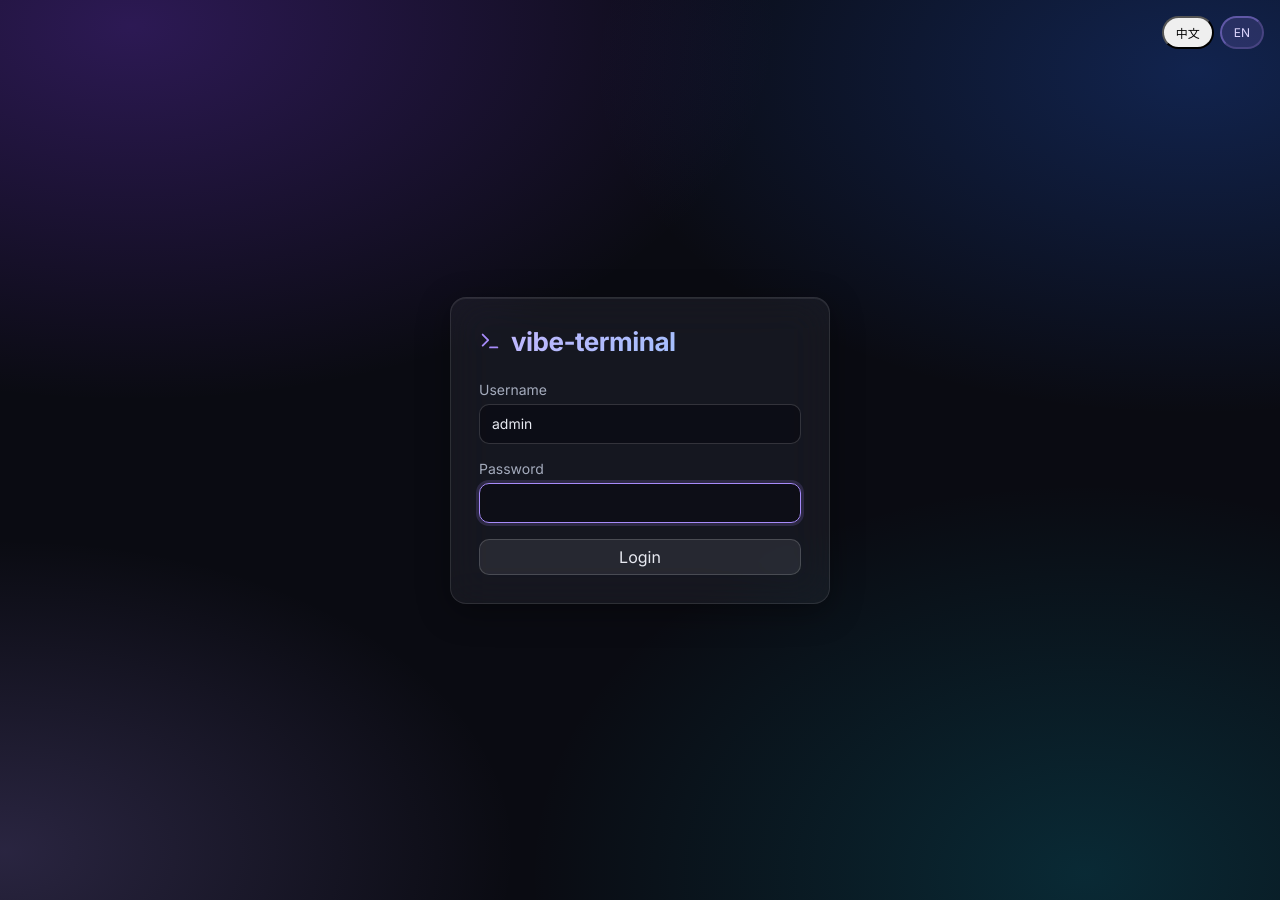
Test: LoginView › 在当前步骤显示普通错误且允许重试
Step 1. Type "secret" into the password field labelled "Password" → (640, 502), box [479, 482, 801, 522]
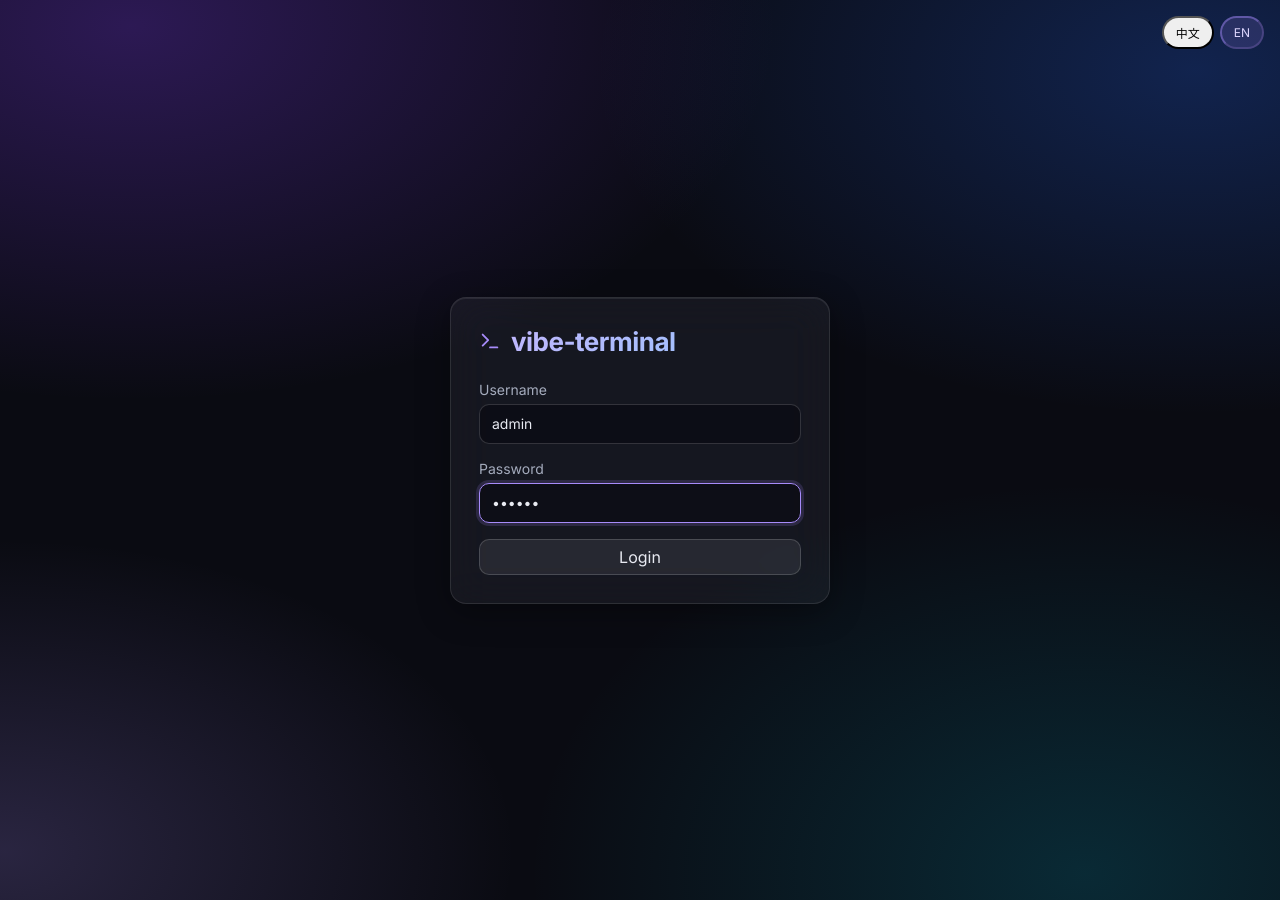
Step 2. Click the button "Login" → (640, 556), box [479, 538, 801, 574]
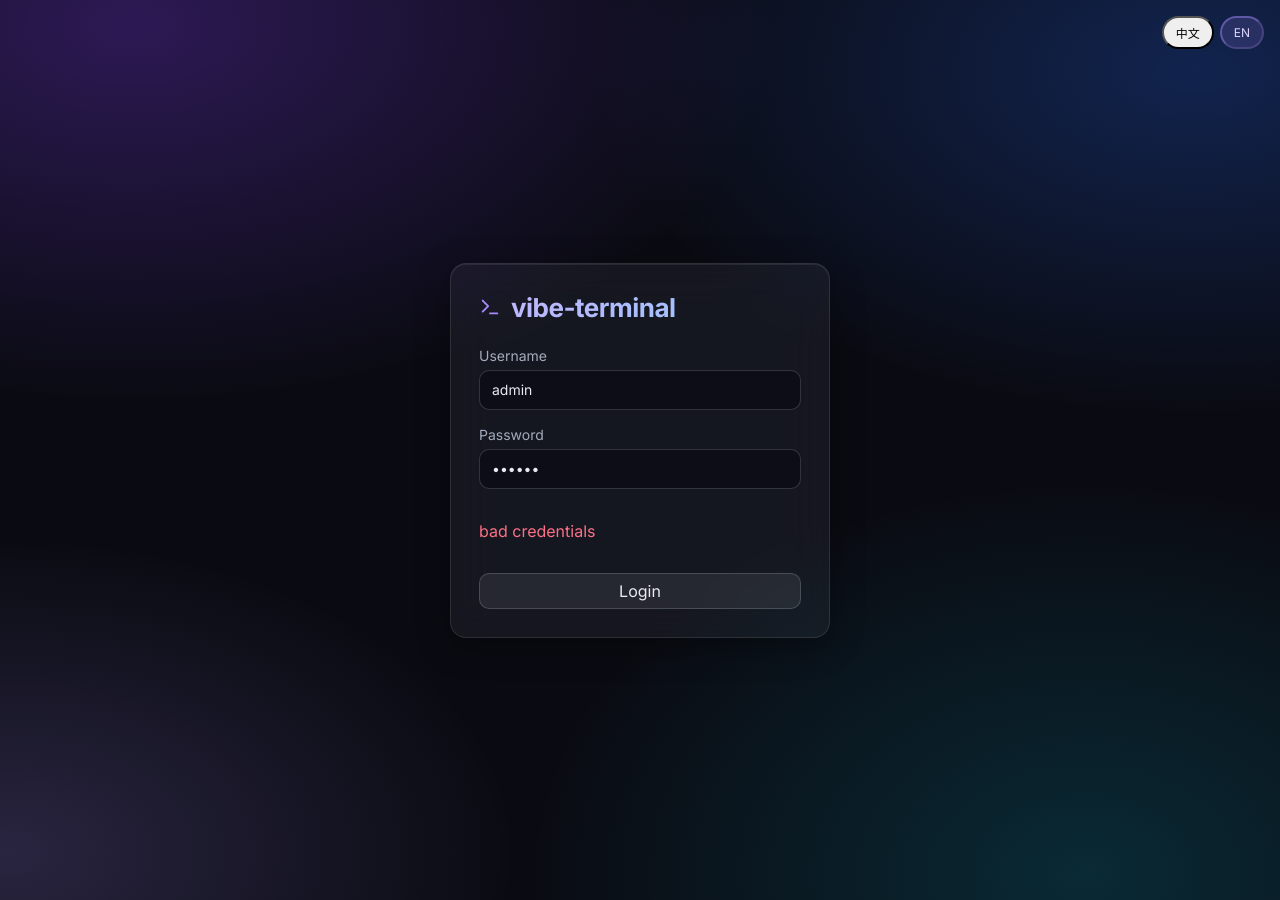
Expected: the button "Login" is enabled, [479, 572, 801, 608]
Result: the message reads "bad credentials" at [479, 520, 596, 540]
